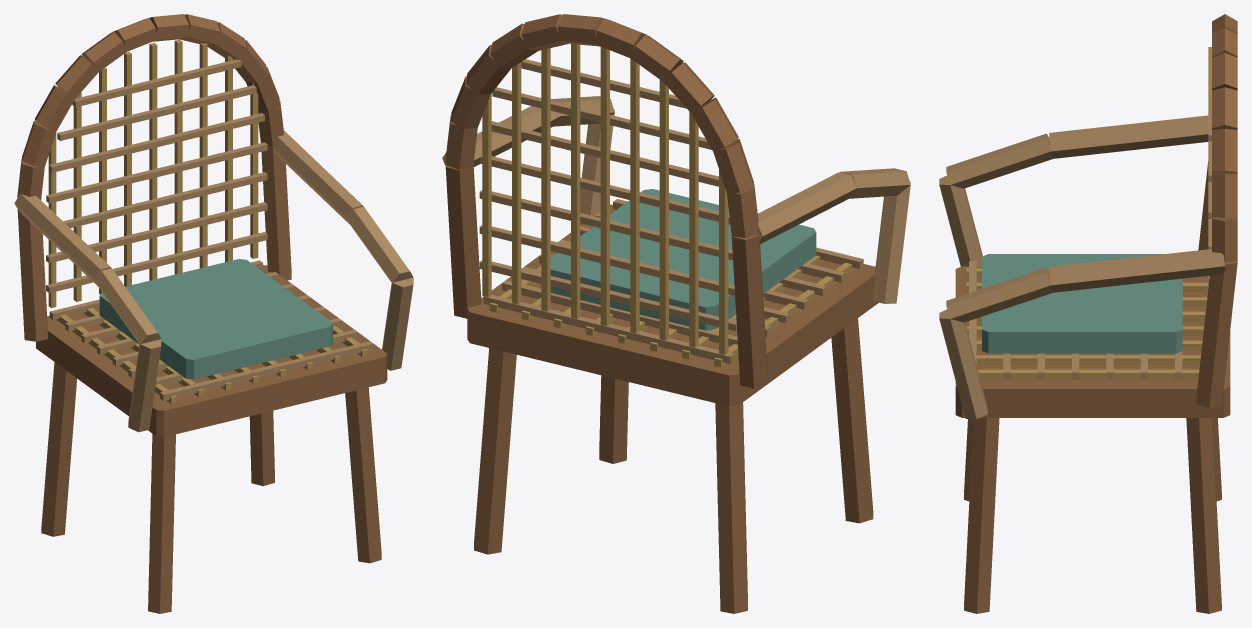
Rendered from chair_wicker.glb.
The picture shows the model from 3 angles, left to right: view 1: azimuth 30°, elevation 25°; view 2: azimuth 150°, elevation 25°; view 3: azimuth 270°, elevation 25°; orthographic projection. The views are drawn at different scales.
Parts seen in each view (by area): view 1: geometry; view 2: geometry; view 3: geometry.
Boxes of the visible parts, x1=… form: geometry: x1=14, y1=14, x2=413, y2=613; geometry: x1=442, y1=14, x2=910, y2=613; geometry: x1=939, y1=14, x2=1237, y2=613.
Size of the model in its own units: 0.65 by 1.1 by 0.5653.
